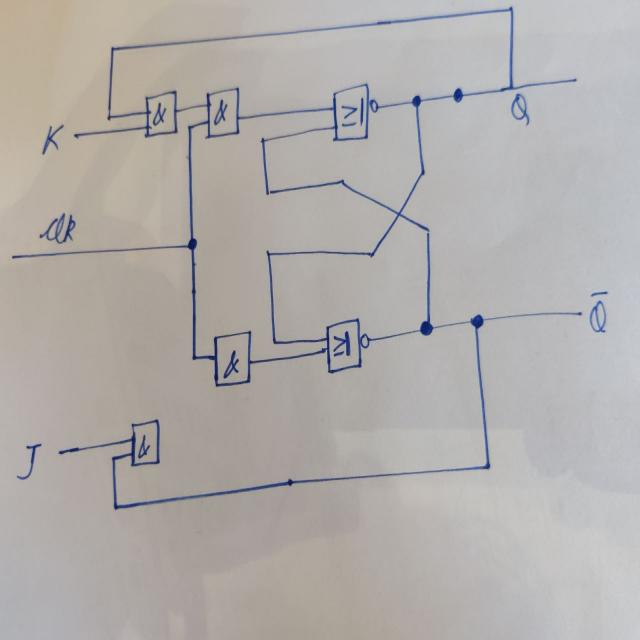crossover: (391, 202, 405, 222)
junction: (465, 307, 487, 336), (417, 315, 435, 338), (451, 85, 465, 105), (409, 92, 423, 110), (185, 235, 198, 252), (481, 457, 494, 474), (505, 1, 516, 18), (110, 498, 120, 513), (505, 80, 516, 93), (263, 184, 273, 198), (189, 349, 199, 363), (104, 110, 114, 124), (417, 165, 427, 179), (422, 222, 432, 236), (107, 42, 117, 55), (263, 246, 273, 259), (269, 335, 279, 347), (366, 247, 376, 259), (338, 174, 347, 187), (109, 452, 118, 464), (258, 134, 267, 145), (185, 122, 193, 131)
terminal: (54, 444, 66, 460), (573, 306, 585, 321), (7, 249, 19, 263), (71, 128, 81, 142), (570, 73, 580, 85)
text: (38, 210, 76, 245), (14, 440, 42, 481), (586, 288, 608, 334), (40, 121, 66, 157), (509, 92, 531, 125)
